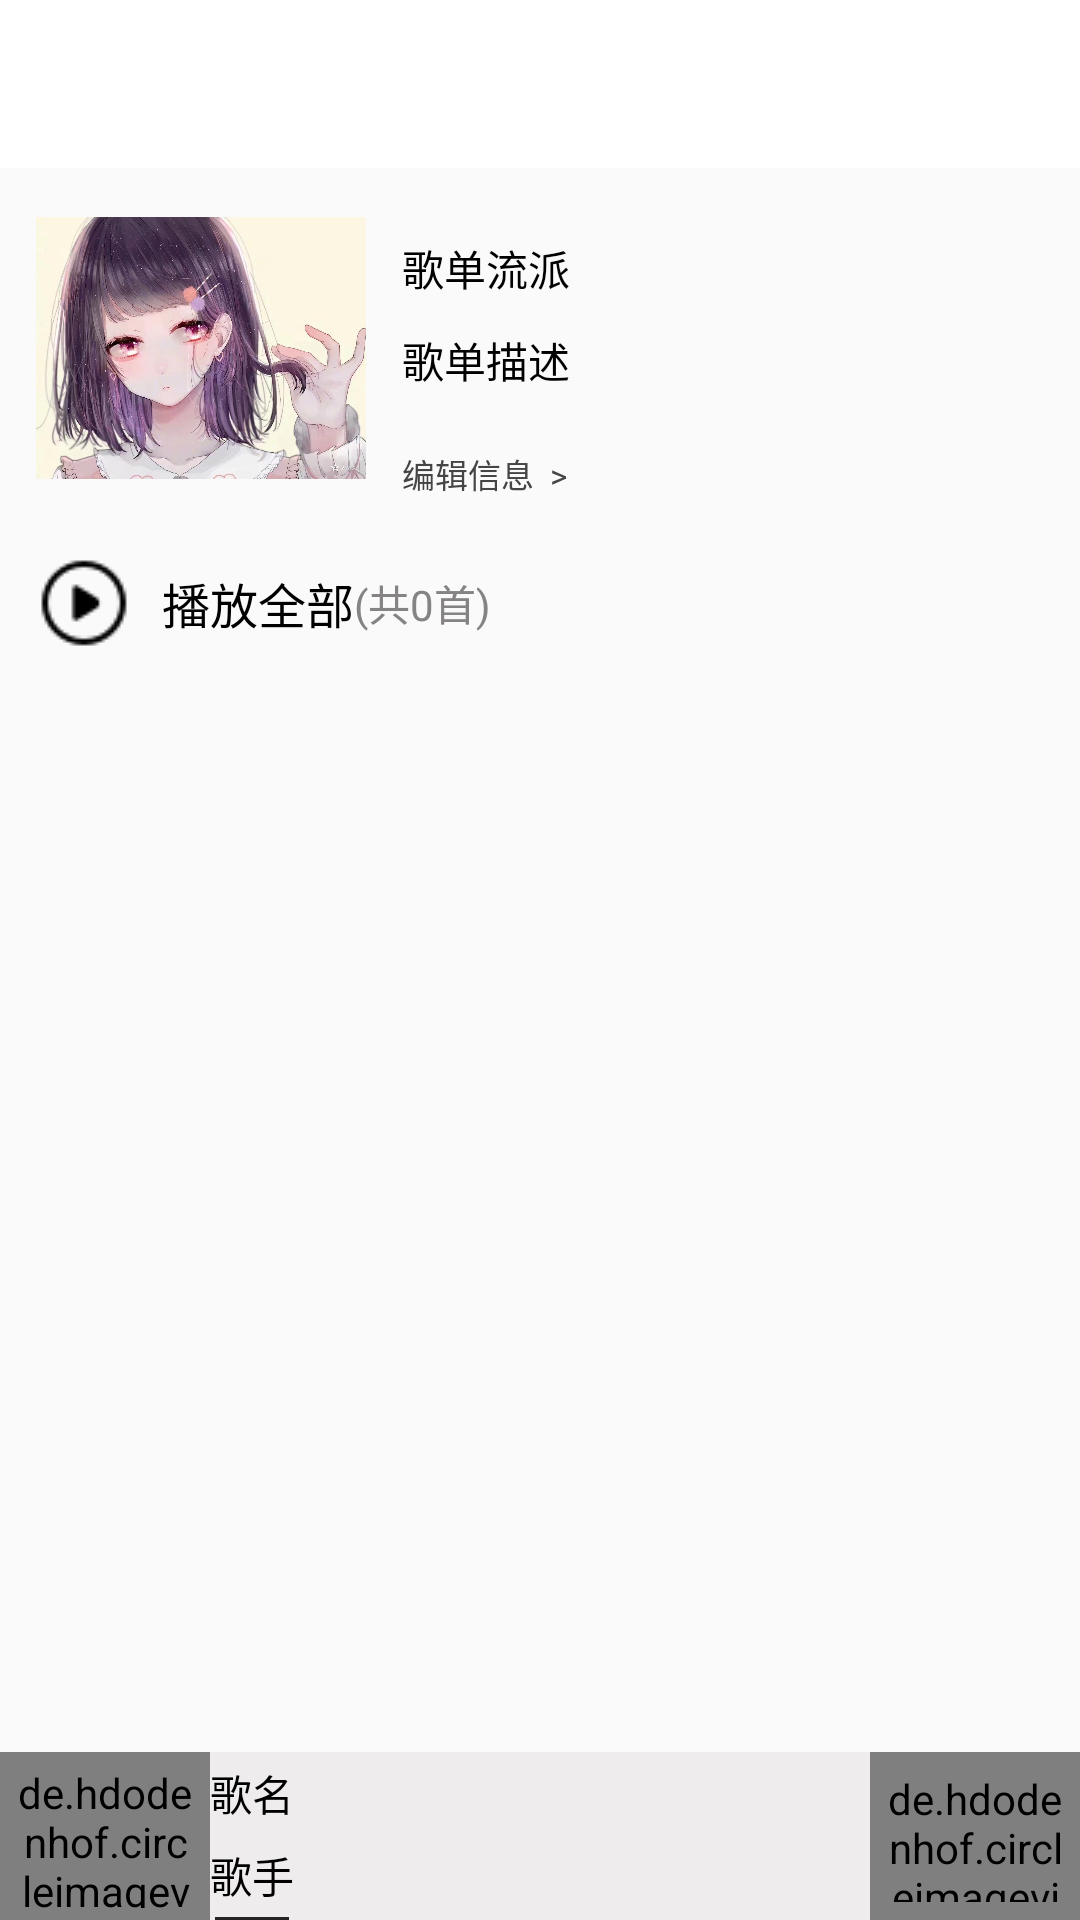

Screen size 1080w x 1920h. Icon name, then its center in pixels as [x,y]:
playall: [84,603]
